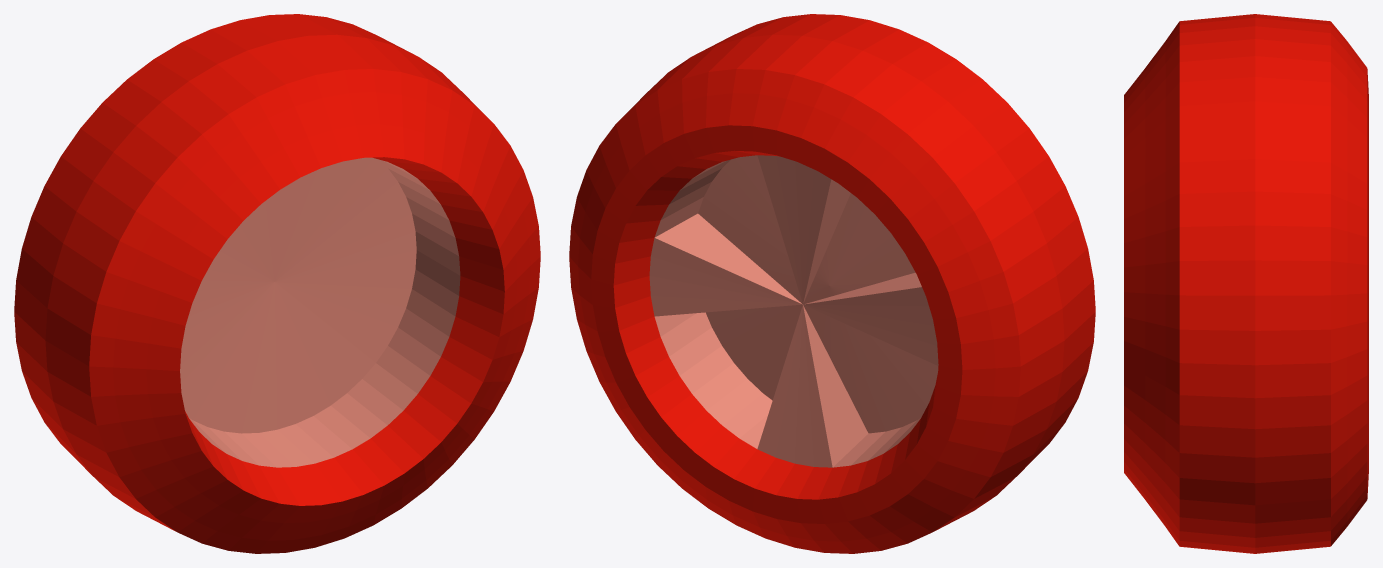
Rendered from vanwheel.fbx.
3 renders of one model, left to right at view 1: azimuth 30°, elevation 25°; view 2: azimuth 150°, elevation 25°; view 3: azimuth 270°, elevation 25°, orthographic.
Visible parts, largest first — view 1: Torus.001; view 2: Torus.001; view 3: Torus.001.
Part boxes in pixels (x1,y1,x2,y2): Torus.001: (14,14,540,553); Torus.001: (569,14,1095,553); Torus.001: (1124,14,1368,553).
Size of the model in its own units: 182 by 182 by 82.38.
